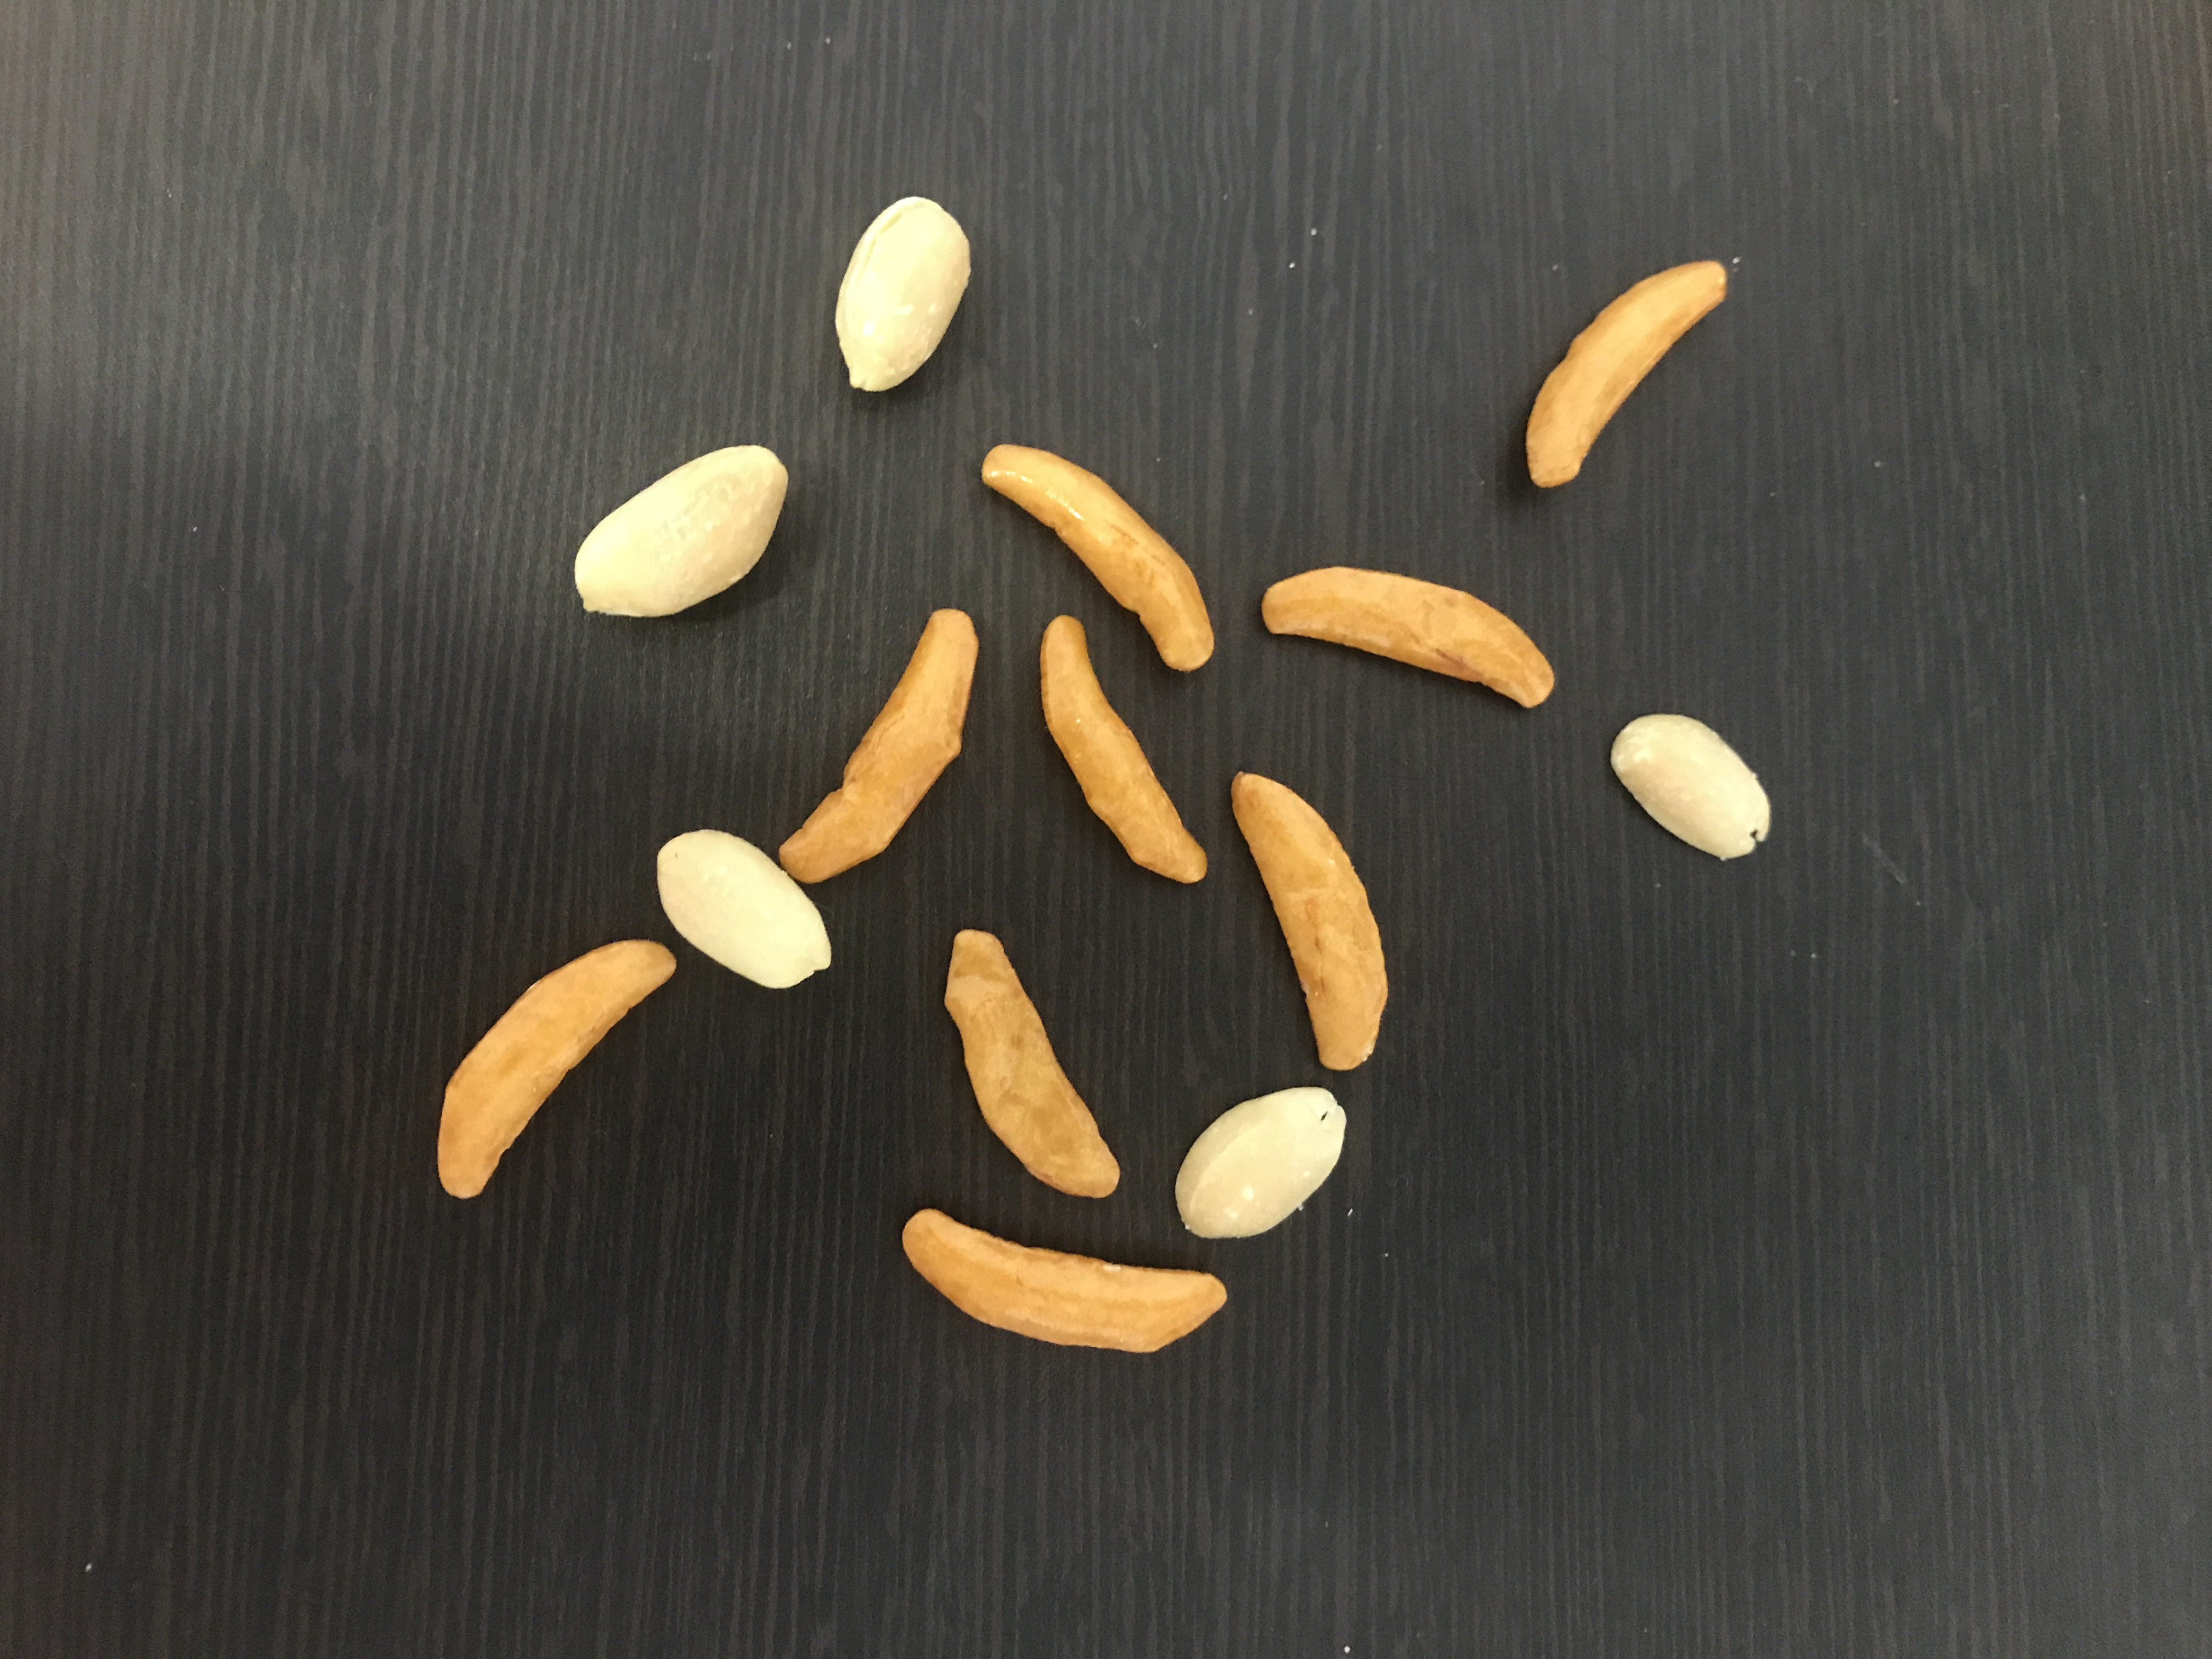peanut: (568, 441, 803, 620), (646, 823, 841, 990), (1169, 1075, 1357, 1244), (829, 188, 974, 396), (1606, 706, 1778, 866)
